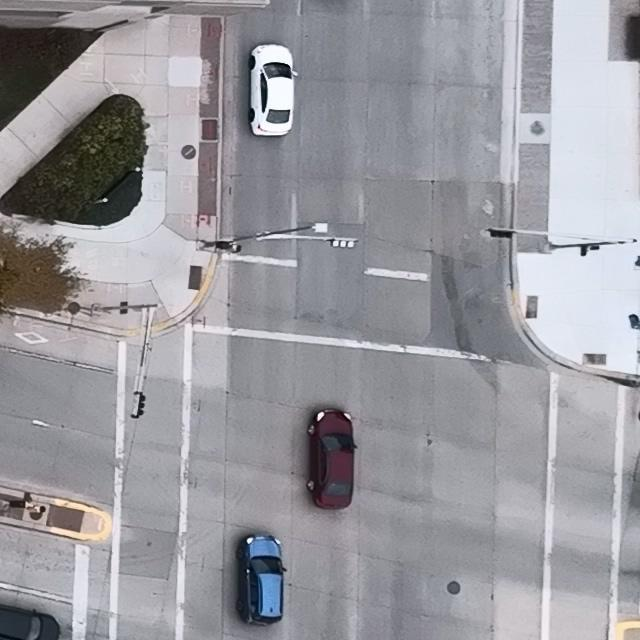car: (306, 408, 357, 510), (235, 533, 288, 626), (249, 44, 298, 136)
